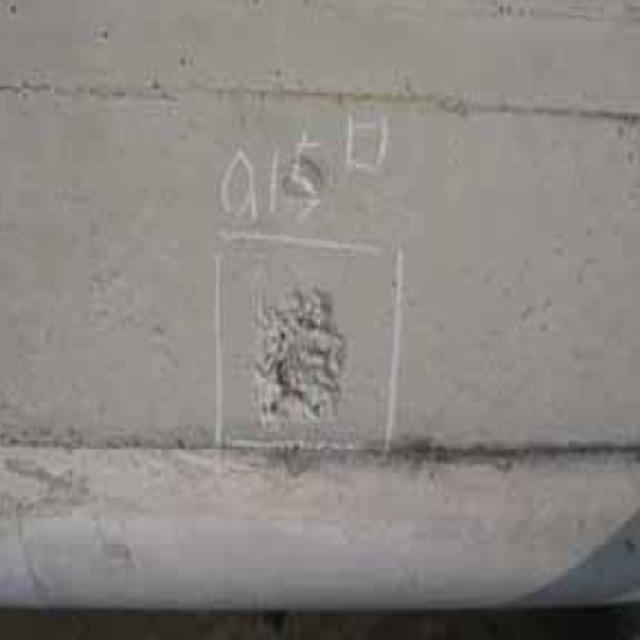spalling: (236, 273, 356, 458)
